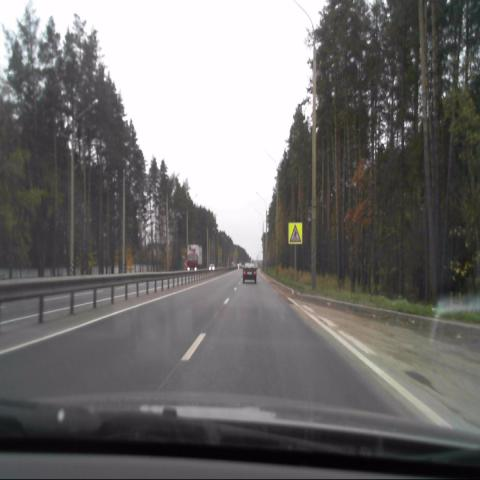1_22: (288, 224, 302, 246)
